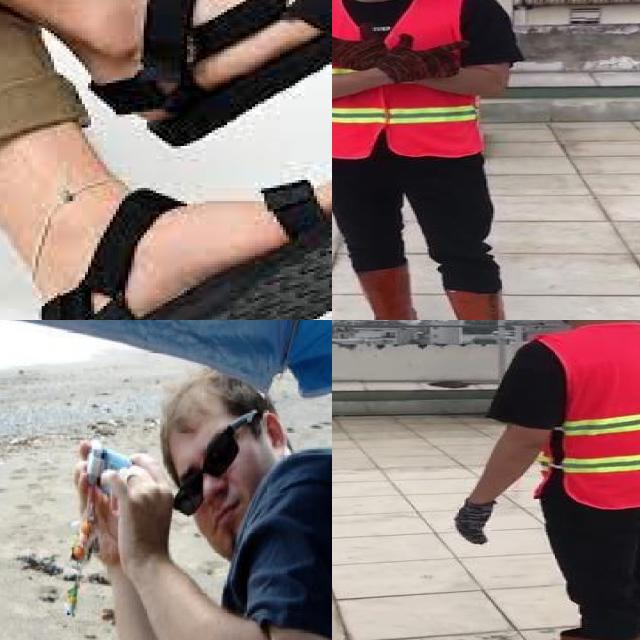Sandals: (0, 0, 332, 320)
boots: (341, 266, 418, 320), (449, 289, 527, 320)
face_nomask: (172, 427, 255, 539)
glasses: (168, 424, 248, 523)
hand_glove: (388, 29, 465, 82), (332, 27, 384, 70), (456, 497, 494, 547)
hand_noglove: (96, 448, 178, 568)
person: (60, 375, 332, 640), (332, 0, 549, 320), (435, 320, 640, 640)
vest: (332, 0, 485, 160), (537, 333, 640, 503)
